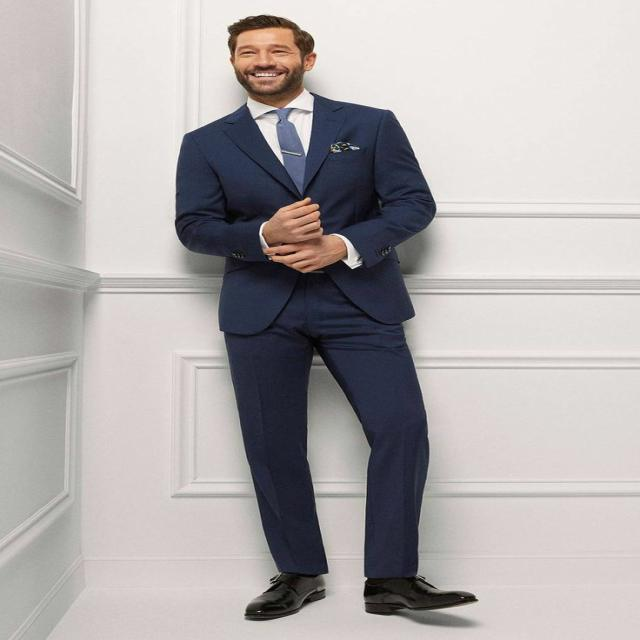male-dress: (171, 113, 464, 590)
